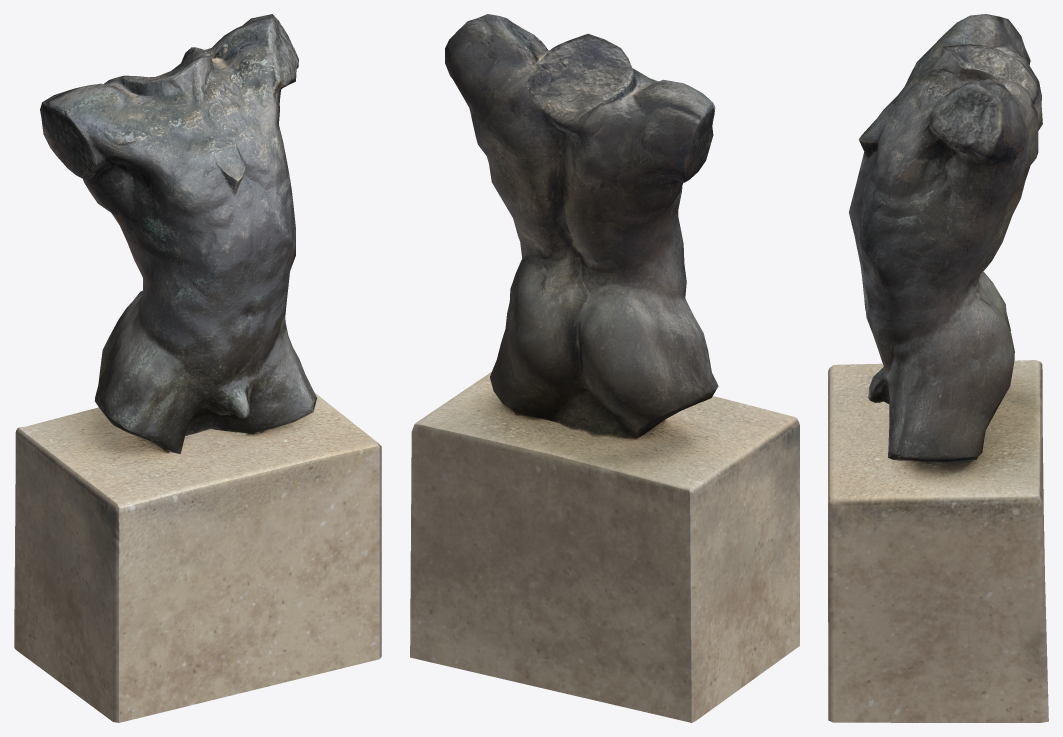
The model's file is GrandTorso.glb.
The picture shows the model from 3 angles, left to right: view 1: azimuth 30°, elevation 25°; view 2: azimuth 150°, elevation 25°; view 3: azimuth 270°, elevation 25°; orthographic projection. The views are drawn at different scales.
Parts seen in each view (by area): view 1: GrandTorso_low; view 2: GrandTorso_low; view 3: GrandTorso_low.
Boxes of the visible parts, box(x1,y1,x2,y2) form: GrandTorso_low: box(14, 14, 381, 722); GrandTorso_low: box(410, 14, 799, 722); GrandTorso_low: box(828, 14, 1048, 722).
Bounding box in the file's own units: 0.2181 × 0.4611 × 0.1494.
Materials: 1 (1 with a texture image).
